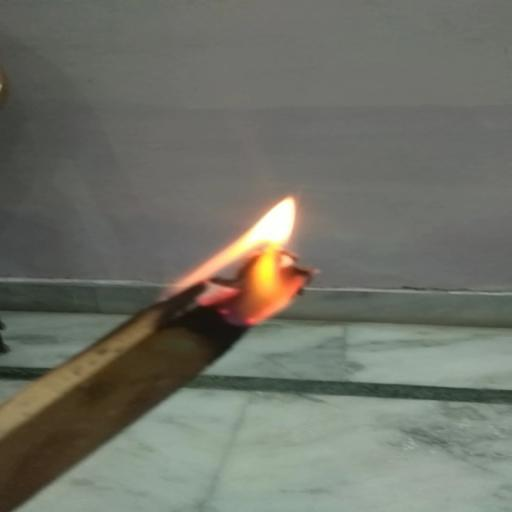fire: (172, 186, 337, 330)
